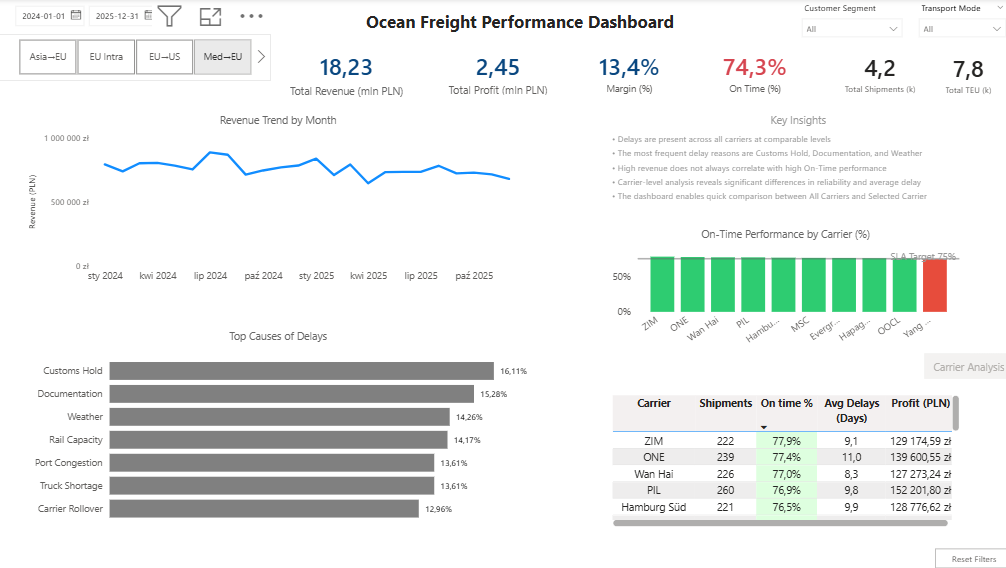

The page's visual inventory and layout, read from the dashboard file:
{"tool":"powerbi","page":{"name":"Sea Freight Performance","canvas":[1280,720],"ordinal":0},"visuals":[{"type":"cardVisual","title":"ggggg","fields":{"Data":["fact_shipments.Shipments (k)"]},"box":[1042.5,50.1,138.2,90.5],"z":0},{"type":"cardVisual","fields":{"Data":["dim_calendar.TEU (k)"]},"box":[1168.1,51.1,111.9,88.6],"z":1000},{"type":"cardVisual","fields":{"Data":["fact_shipments.przychód (mln)"]},"box":[341.7,50.6,192.7,89.6],"z":2000},{"type":"cardVisual","fields":{"Data":["dim_calendar.Total Profit"]},"box":[534.4,50.1,192.7,90.5],"z":3000},{"type":"cardVisual","fields":{"Data":["fact_shipments.Marża%"]},"box":[727.1,50.1,137.2,90.5],"z":4000},{"type":"cardVisual","fields":{"Data":["dim_calendar.On Time % Display"]},"box":[864.4,50.1,178.1,90.5],"z":5000},{"type":"lineChart","title":"Revenue Trend by Month","fields":{"Category":["dim_calendar.MonthStartDate"],"Y":["fact_shipments.Przychód"]},"box":[23.4,253.1,656.1,149.9],"z":6000},{"type":"slicer","fields":{"Values":["dim_calendar.Date"]},"box":[6.8,0,205.4,46.3],"z":7000},{"type":"columnChart","title":"On-Time Performance by Carrier (%)","fields":{"Category":["dim_carriers.CarrierName"],"Y":["fact_shipments.on time%"]},"box":[699.9,253.1,557.7,206.4],"z":8000},{"type":"clusteredBarChart","title":"Top Causes of Delays","fields":{"Category":["fact_shipments.DelayReason"],"Y":["fact_shipments.Delay % Share"]},"box":[23.4,424.4,656.1,282.3],"z":9000},{"type":"tableEx","fields":{"Values":["dim_carriers.CarrierName","fact_shipments.Wysyłki","fact_shipments.On time %","fact_shipments.Śr. opóźnienie %","fact_shipments.Zysk"]},"box":[744.6,505.2,479.9,180.1],"z":10000},{"type":"slicer","fields":{"Values":["fact_shipments.TradeLane"]},"box":[0,46.3,342,57.6],"z":11000},{"type":"slicer","fields":{"Values":["fact_shipments.Mode"]},"box":[1150.2,0,129.8,56.4],"z":12000},{"type":"slicer","fields":{"Values":["dim_customers.Segment"]},"box":[1003.5,0,146.7,56.4],"z":13000},{"type":"actionButton","box":[1180.7,459.4,99.3,25.3],"z":14000},{"type":"textbox","title":"Ocean Freight Performance Dashboard","box":[458.5,15.6,407.8,38],"z":15000},{"type":"actionButton","box":[1197.3,694,82.4,26],"z":16000},{"type":"textbox","box":[124.6,140.2,952,96.4],"z":16001}]}

Visuals, with their boxes on the page's 1280x720 design canvas (x1, y1, x2, y2). These are canvas units, not pixel positions in the 1006x568 screenshot, which may show the page scaled, cropped or inside an application window:
"ggggg" cardVisual: 1042:50:1181:141
cardVisual - dim_calendar.TEU (k): 1168:51:1280:140
cardVisual - fact_shipments.przychód (mln): 342:51:534:140
cardVisual - dim_calendar.Total Profit: 534:50:727:141
cardVisual - fact_shipments.Marża%: 727:50:864:141
cardVisual - dim_calendar.On Time % Display: 864:50:1042:141
"Revenue Trend by Month" lineChart: 23:253:680:403
slicer - dim_calendar.Date: 7:0:212:46
"On-Time Performance by Carrier (%)" columnChart: 700:253:1258:460
"Top Causes of Delays" clusteredBarChart: 23:424:680:707
tableEx - dim_carriers.CarrierName x fact_shipments.Wysyłki: 745:505:1224:685
slicer - fact_shipments.TradeLane: 0:46:342:104
slicer - fact_shipments.Mode: 1150:0:1280:56
slicer - dim_customers.Segment: 1004:0:1150:56
actionButton: 1181:459:1280:485
"Ocean Freight Performance Dashboard" textbox: 458:16:866:54
actionButton: 1197:694:1280:720
textbox: 125:140:1077:237
